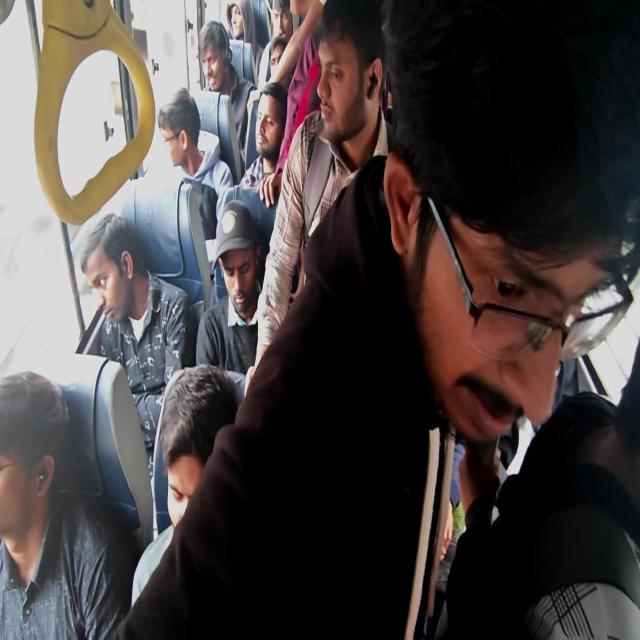person: (111, 1, 638, 638), (443, 340, 639, 638), (250, 1, 395, 384), (79, 211, 197, 527), (0, 369, 134, 639), (129, 362, 240, 609), (194, 198, 264, 402), (157, 87, 234, 239), (197, 19, 256, 150), (238, 80, 288, 206), (225, 0, 264, 82)
